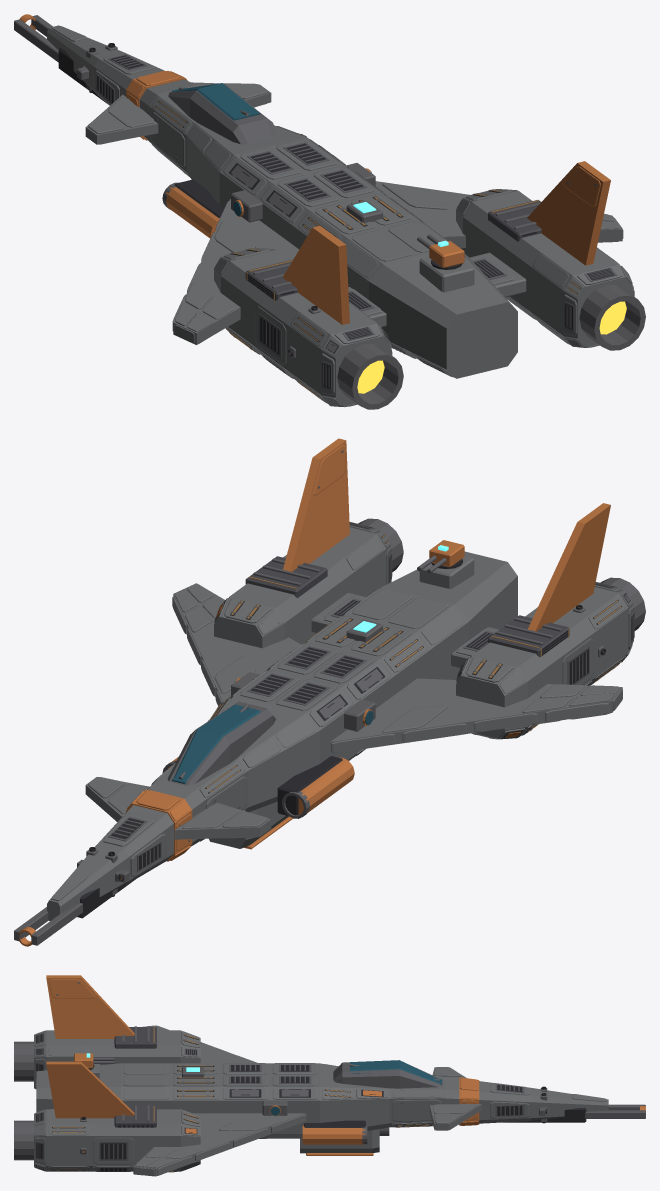
The model's file is mars_interceptor_t4.glb.
3 views of the same model, one above another, from view 1: azimuth 30°, elevation 25°; view 2: azimuth 150°, elevation 25°; view 3: azimuth 270°, elevation 25° (orthographic). The views are drawn at different scales.
Visible parts, largest first — view 1: FleetHull, mesh_pd_yaw_0; view 2: FleetHull; view 3: FleetHull.
Boxes of the visible parts, box(x1,y1,x2,y2) form: FleetHull: box(14, 14, 645, 409); mesh_pd_yaw_0: box(429, 241, 464, 267); FleetHull: box(14, 438, 645, 946); FleetHull: box(14, 975, 645, 1176).
Size of the model in its own units: 13.64 by 5.76 by 25.4.
